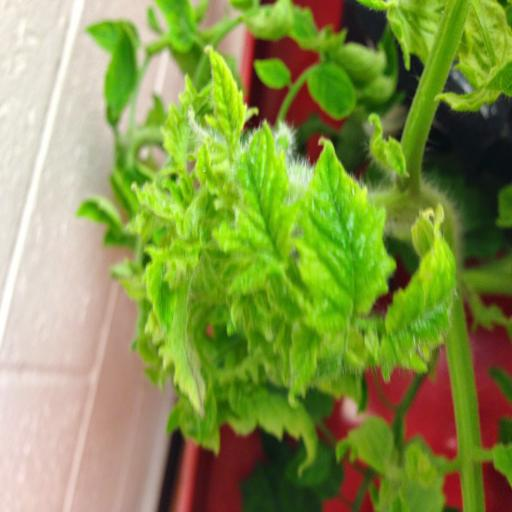Yellow Leaf Curl Virus: (304, 131, 400, 351), (231, 96, 298, 306), (384, 189, 458, 379)
